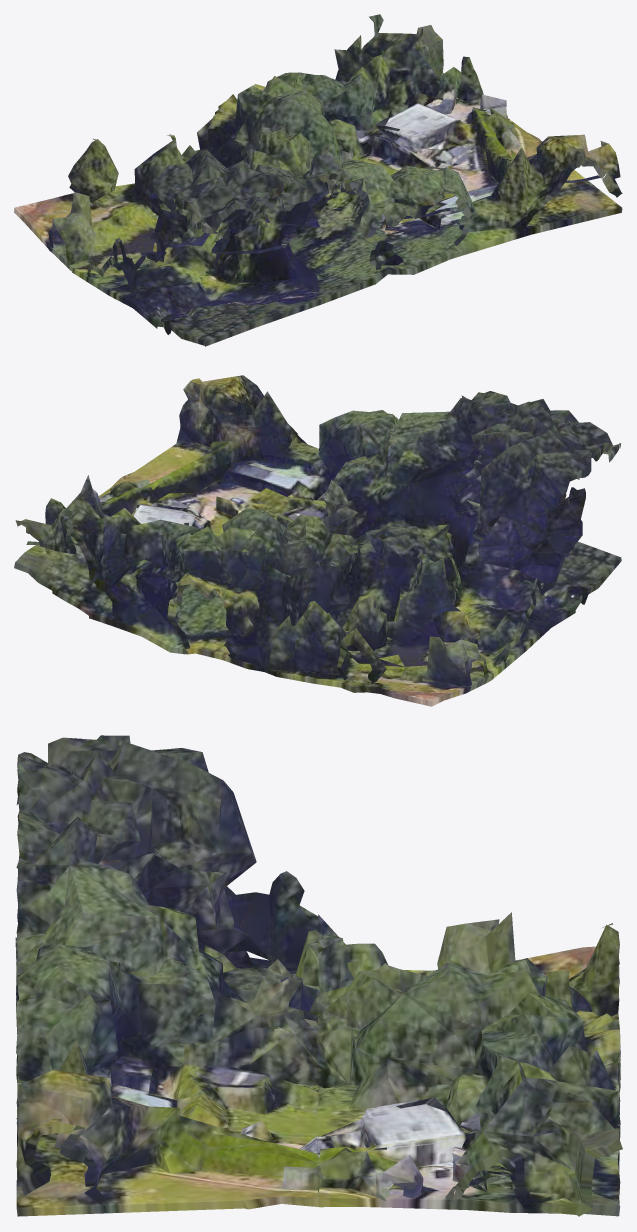
The picture shows the model from 3 angles, top to bottom: view 1: azimuth 30°, elevation 25°; view 2: azimuth 150°, elevation 25°; view 3: azimuth 270°, elevation 25°; orthographic projection. The views are drawn at different scales.
Parts seen in each view (by area): view 1: Mesh_0.309; view 2: Mesh_0.309; view 3: Mesh_0.309.
Boxes of the visible parts, x1=… form: Mesh_0.309: x1=14, y1=14, x2=622, y2=346; Mesh_0.309: x1=14, y1=375, x2=621, y2=706; Mesh_0.309: x1=15, y1=735, x2=622, y2=1216.
Bounding box in the file's own units: 98.61 × 38.03 × 77.4.
Materials: 1 (1 with a texture image).
